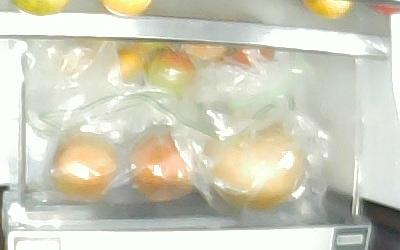peach_vinyl: (126, 131, 193, 201), (48, 132, 117, 198)
pear_vinyl: (201, 122, 302, 210)
tangerine_vinyl: (116, 50, 144, 80)
tomato_vinyl: (142, 46, 196, 99), (227, 46, 275, 68)
